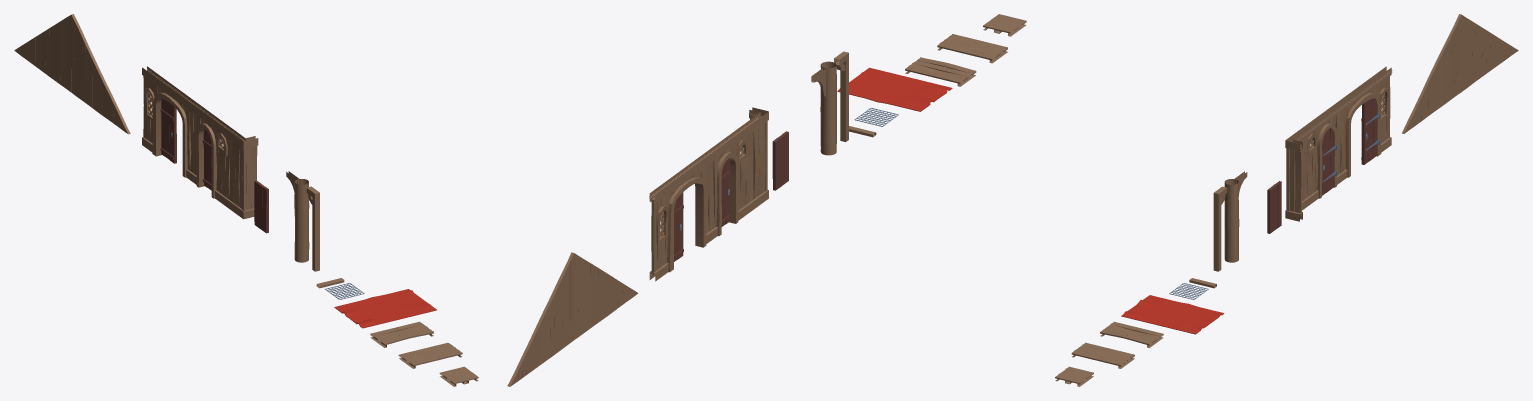
The model's file is StructureAssets.fbx.
3 views of the same model, side by side, from view 1: azimuth 30°, elevation 25°; view 2: azimuth 150°, elevation 25°; view 3: azimuth 330°, elevation 25° (orthographic). The views are drawn at different scales.
Visible parts, largest first — view 1: WallGable, WallPanelsCorner, WallPanelsDoorWayDouble, CornerPillar, WallPanelsWindowRaised, WallPanelsDoorWay, WallPanelsWindow, WallPanelsx4, DoorArchedDouble, FloorWooden4xMeters, CreakyFloorWooden4xMeters, SupportBeamArch (+4 smaller); view 2: WallGable, WallPanelsDoorWayDouble, WallPanelsWindow, CornerPillar, WallPanelsDoorWay, WallPanelsWindowRaised, WallPanelsx4, CreakyFloorWooden4xMeters, FloorWooden4xMeters, WallPanelsCorner, SupportBeamArch, WallPanelsx2 (+10 smaller); view 3: WallGable, WallPanelsCorner, WallPanelsDoorWayDouble, CornerPillar, WallPanelsWindowRaised, DoorArchedDouble, WallPanelsWindow, WallPanelsx4, FloorWooden4xMeters, CreakyFloorWooden4xMeters, WallPanelsDoorWay, DoorArchedSingle (+3 smaller).
Part boxes in pixels (x1,y1,x2,y2): WallGable: (14, 14, 130, 134); WallPanelsCorner: (235, 134, 258, 219); WallPanelsDoorWayDouble: (152, 77, 189, 177); CornerPillar: (294, 179, 309, 262); WallPanelsWindowRaised: (213, 118, 232, 207); WallPanelsDoorWay: (196, 108, 218, 198); WallPanelsWindow: (142, 66, 161, 151); WallPanelsx4: (185, 98, 204, 184); DoorArchedDouble: (160, 99, 176, 163); FloorWooden4xMeters: (398, 342, 462, 368); CreakyFloorWooden4xMeters: (370, 321, 433, 347); SupportBeamArch: (306, 186, 319, 271); WallGable: (507, 252, 638, 386); WallPanelsDoorWayDouble: (665, 158, 706, 272); WallPanelsWindow: (649, 182, 671, 281); CornerPillar: (820, 61, 836, 155); WallPanelsDoorWay: (713, 135, 738, 236); WallPanelsWindowRaised: (729, 123, 751, 220); WallPanelsx4: (697, 147, 719, 243); CreakyFloorWooden4xMeters: (905, 57, 976, 86); FloorWooden4xMeters: (937, 34, 1007, 63); WallPanelsCorner: (749, 107, 768, 205); SupportBeamArch: (834, 51, 848, 141); WallPanelsx2: (746, 117, 759, 210); WallGable: (1402, 14, 1518, 133); WallPanelsCorner: (1285, 134, 1303, 221); WallPanelsDoorWayDouble: (1343, 77, 1381, 177); CornerPillar: (1224, 179, 1239, 262); WallPanelsWindowRaised: (1301, 119, 1320, 207); DoorArchedDouble: (1361, 98, 1380, 164); WallPanelsWindow: (1372, 66, 1392, 152); WallPanelsx4: (1329, 97, 1349, 184); FloorWooden4xMeters: (1071, 342, 1134, 368); CreakyFloorWooden4xMeters: (1100, 321, 1163, 347); WallPanelsDoorWay: (1315, 108, 1336, 198); DoorArchedSingle: (1322, 128, 1337, 195).
Bounding box in the file's own units: 3.04 × 3.15 × 31.5.
